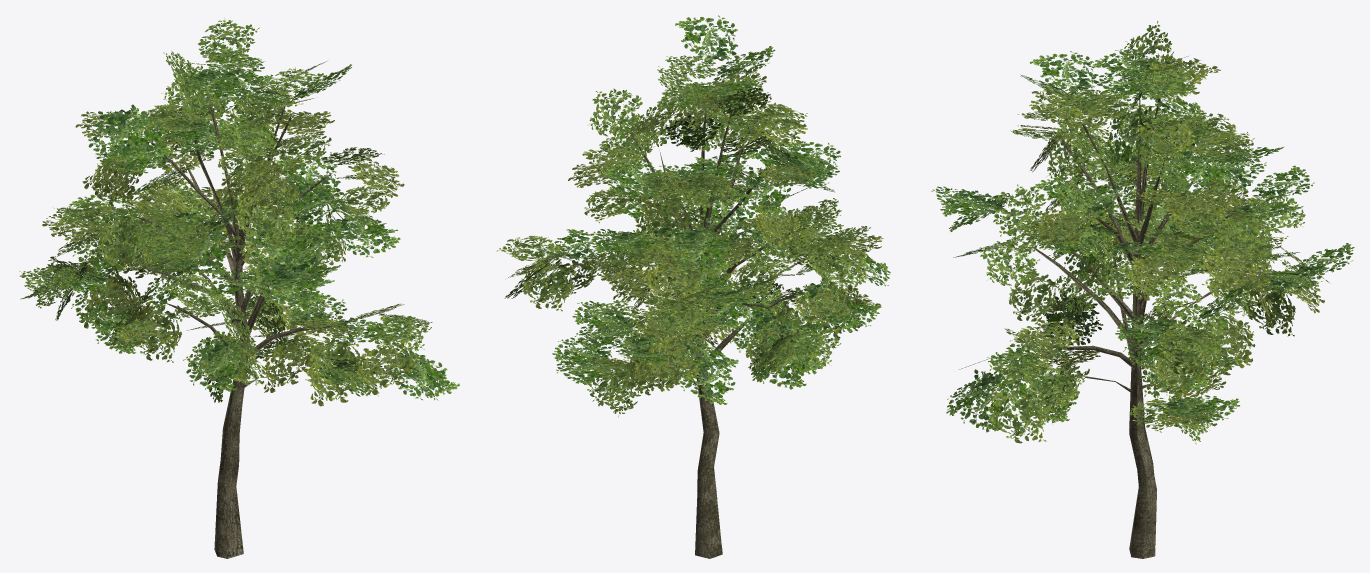
File: tree1a_lod2.glb
The picture shows the model from 3 angles, left to right: view 1: azimuth 30°, elevation 25°; view 2: azimuth 150°, elevation 25°; view 3: azimuth 270°, elevation 25°; orthographic projection. The views are drawn at different scales.
Visible parts, largest first — view 1: polySurface1043, polySurface459; view 2: polySurface1043, polySurface459; view 3: polySurface1043, polySurface459.
Boxes of the visible parts, box(x1,y1,x2,y2) form: polySurface1043: box(19, 17, 459, 406); polySurface459: box(99, 94, 366, 558); polySurface1043: box(496, 15, 890, 417); polySurface459: box(578, 113, 808, 558); polySurface1043: box(931, 21, 1354, 444); polySurface459: box(1024, 92, 1264, 558).
Size of the model in its own units: 15.27 by 20.26 by 15.51.
Materials: 2 (2 with a texture image).
